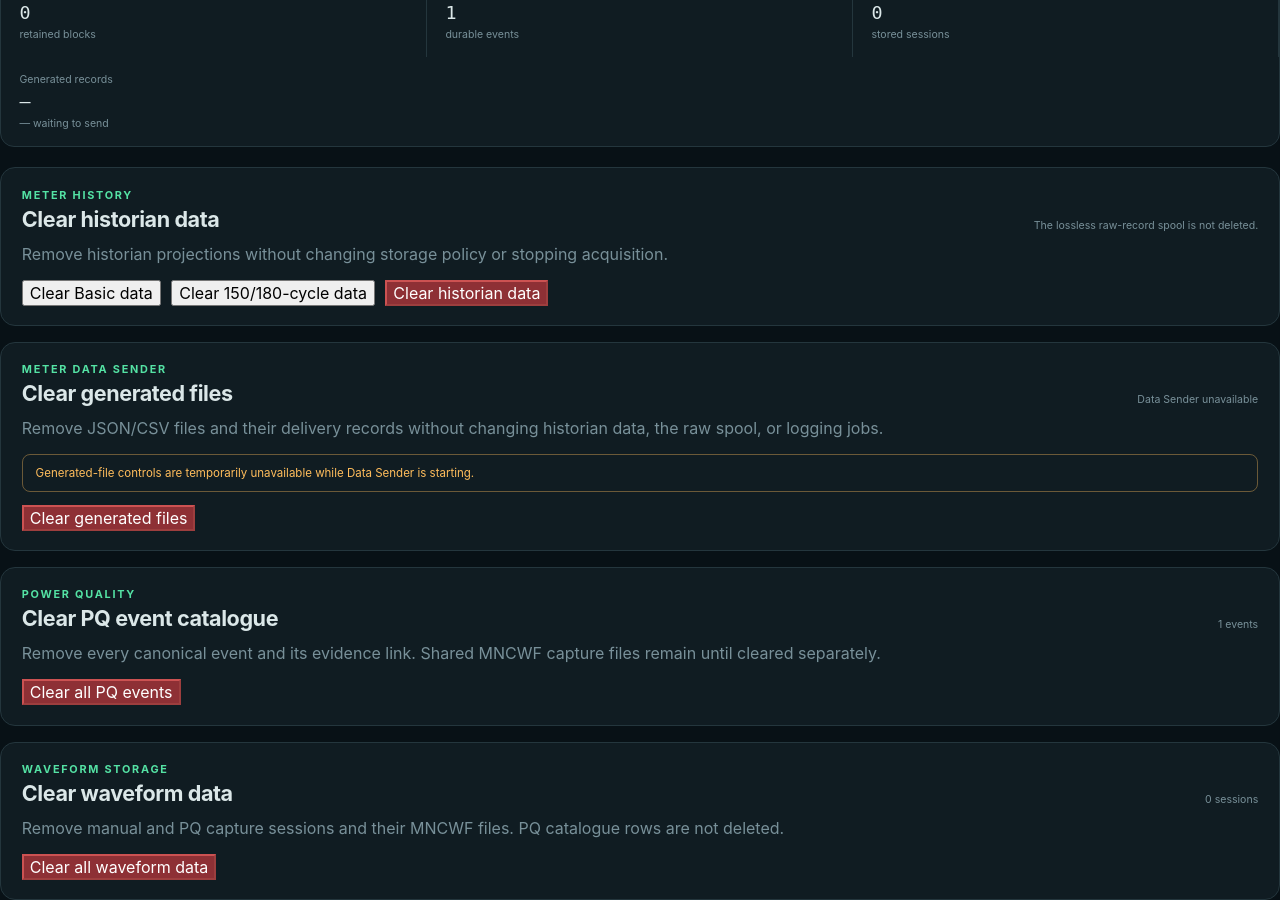
Test: Management page › does not attribute Data Sender startup to a successful PQ catalogue clear
(page scrolled)
Expected: the text "Generated-file controls are temporarily unavailable" is shown, [36, 466, 474, 480]
Click the button "Clear all PQ events" at (101, 692), box [22, 680, 181, 706]
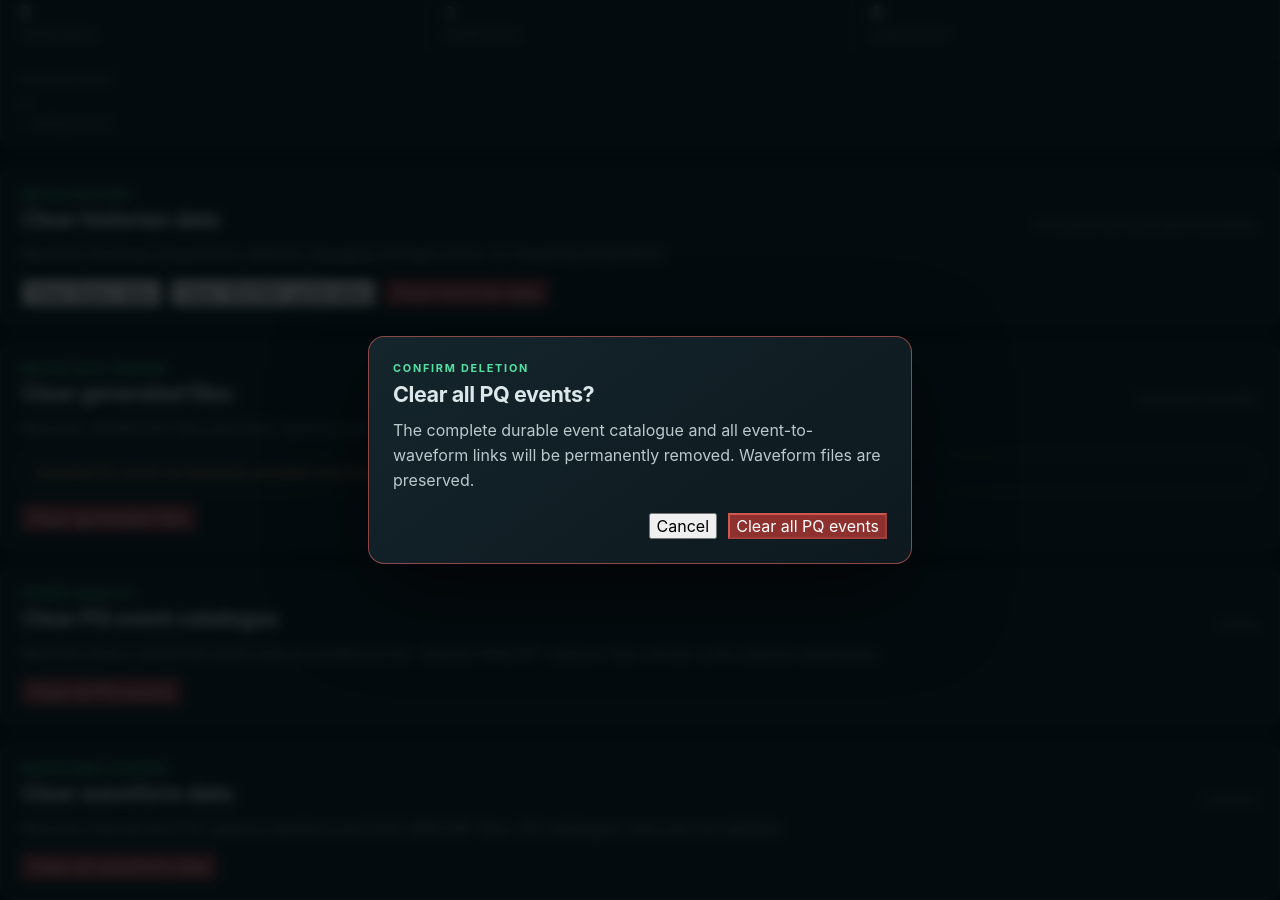
Click the button "Clear all PQ events" at (808, 526), box [728, 513, 887, 539]
(page scrolled)
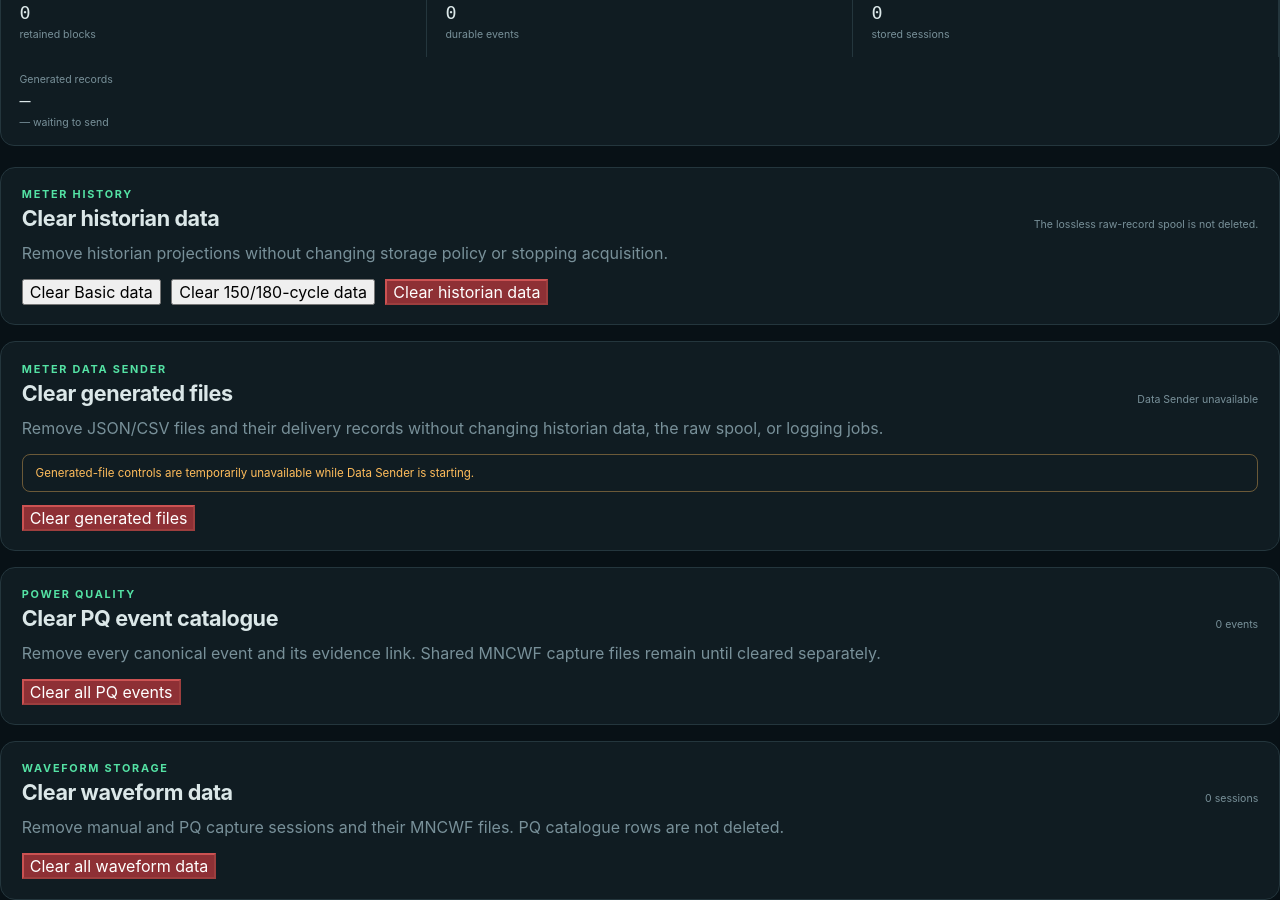
Expected: the dialog is gone
Expected: the text "0 events" is shown, [1216, 618, 1258, 631]
